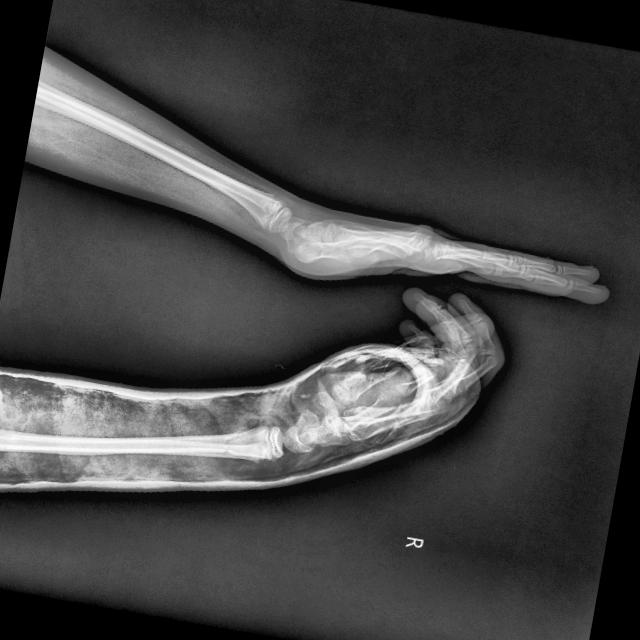Fracture: (215, 427, 248, 464)
